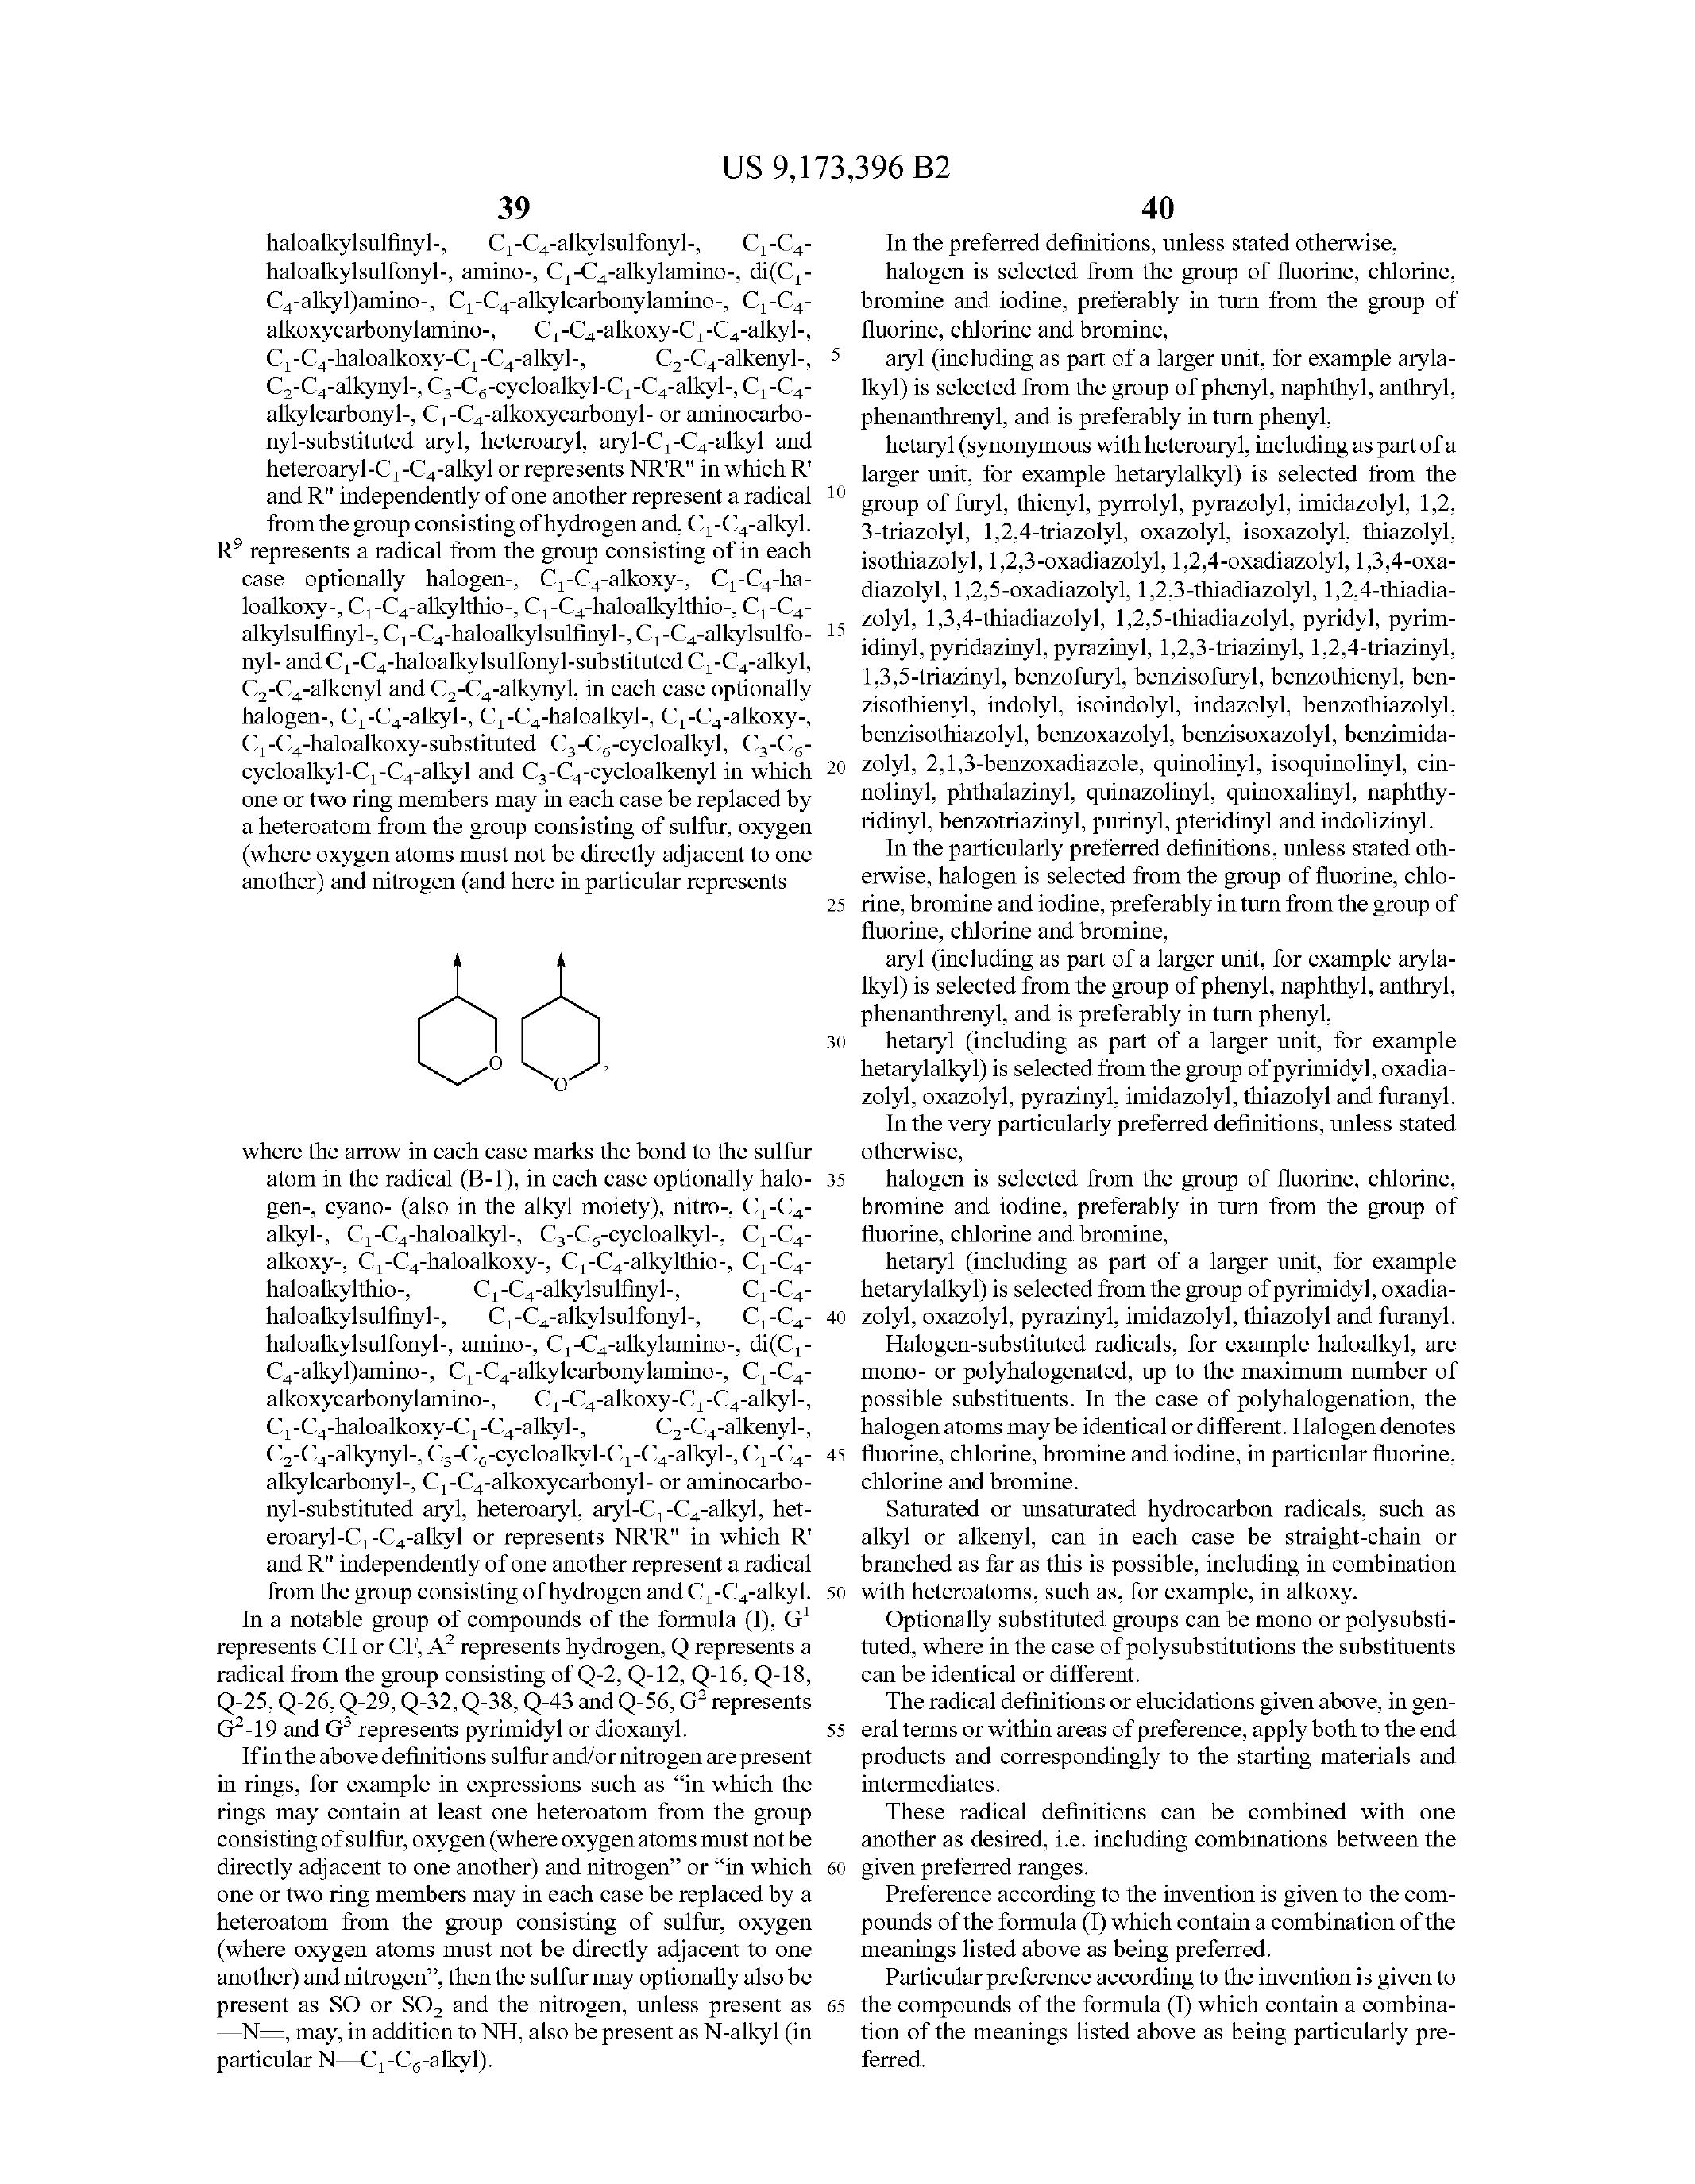substitutes: (191, 523, 819, 904), (257, 924, 660, 1090)
